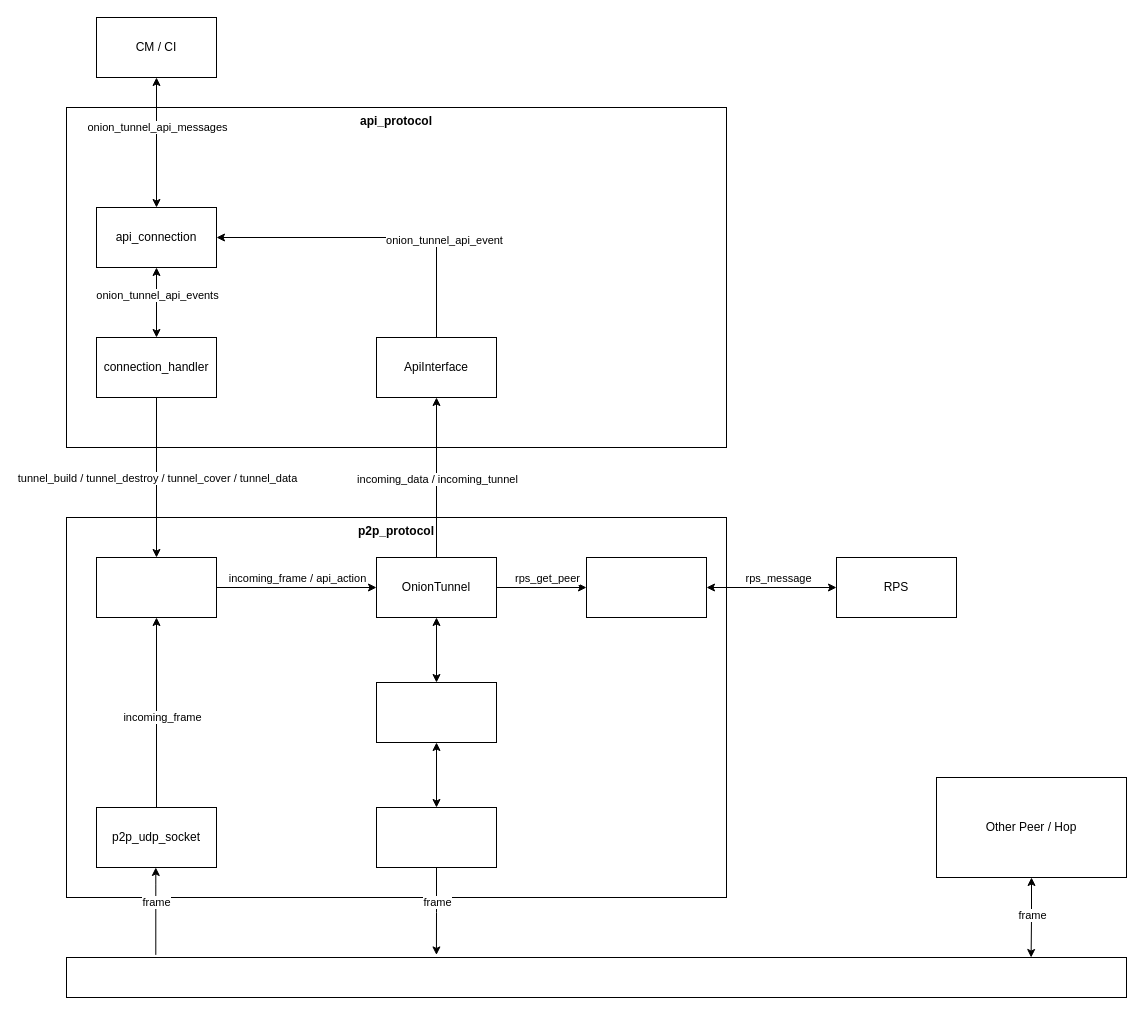
The diagram is 1144 pixels wide and 1015 high, and some of its shapes have lost their labels. The shapes that lost their labels are listed below. From the top down, each one's centre as x and y in pixels, then its label:
(156,587): P2pInterface
(646,587): rps_api
(436,712): OnionTunnel FSM
(436,837): MessageCodec
(596,977): Wire
